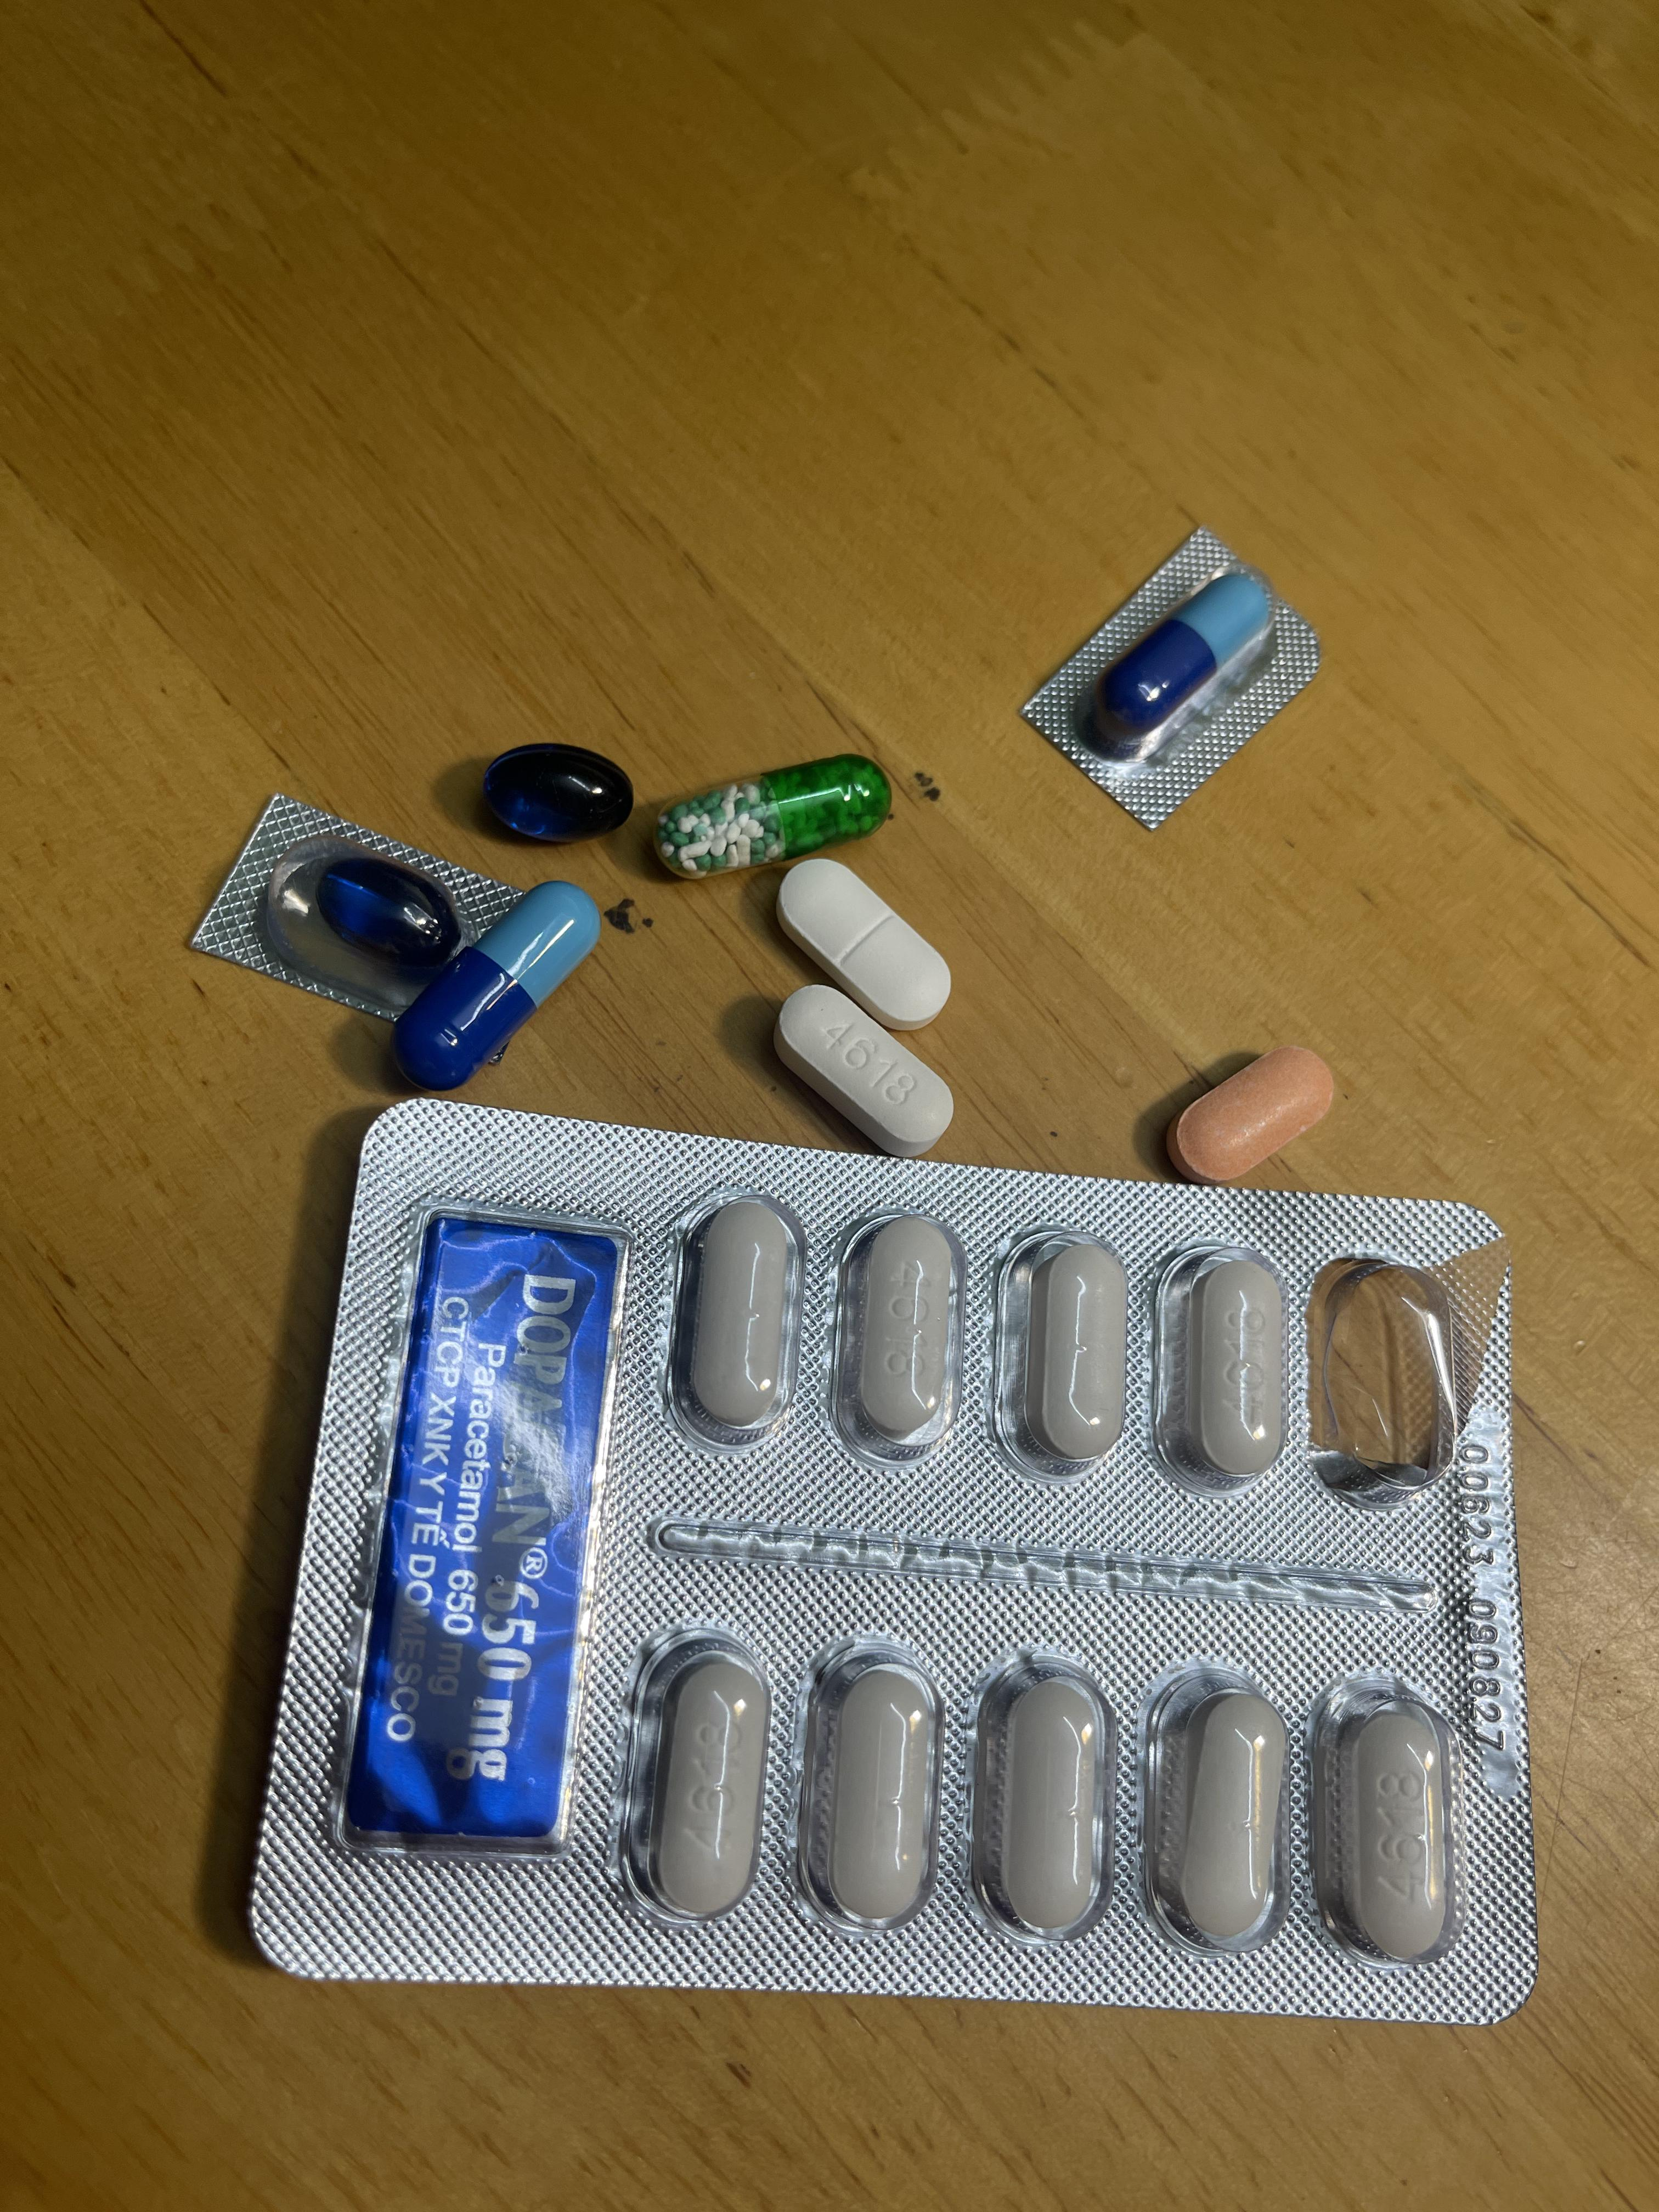Lincomyxin_500mg: (479, 740, 638, 843), (312, 859, 457, 967)
Loratadine_10mg: (1166, 1047, 1337, 1181)
Paracetamol_350mg: (775, 857, 948, 1031)
Paracetamol_500mg: (1316, 1681, 1467, 1968), (629, 1634, 774, 1928), (803, 1642, 943, 1935), (1152, 1665, 1290, 1954), (978, 1656, 1112, 1946), (835, 1212, 964, 1467), (1166, 1249, 1293, 1493), (678, 1198, 805, 1442), (1011, 1237, 1131, 1480), (774, 989, 953, 1150)
Paracetamol_650mg: (657, 759, 885, 878)
pill: (390, 887, 596, 1090), (1096, 571, 1272, 751)
